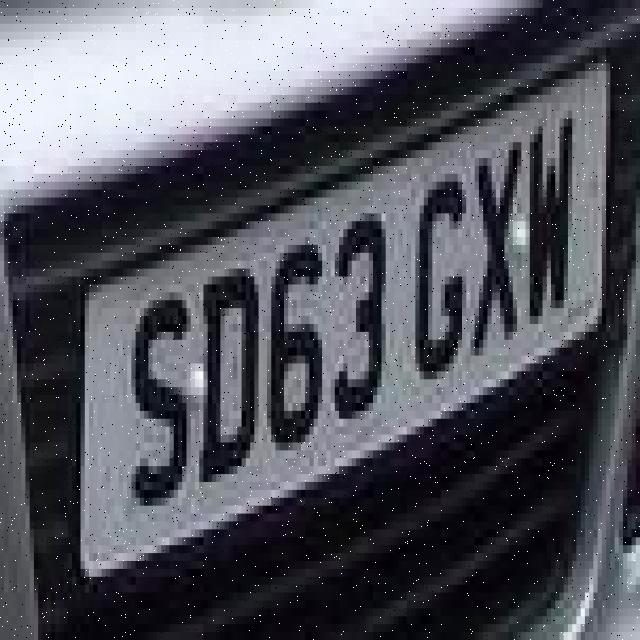licenseplate: (84, 38, 618, 566)
